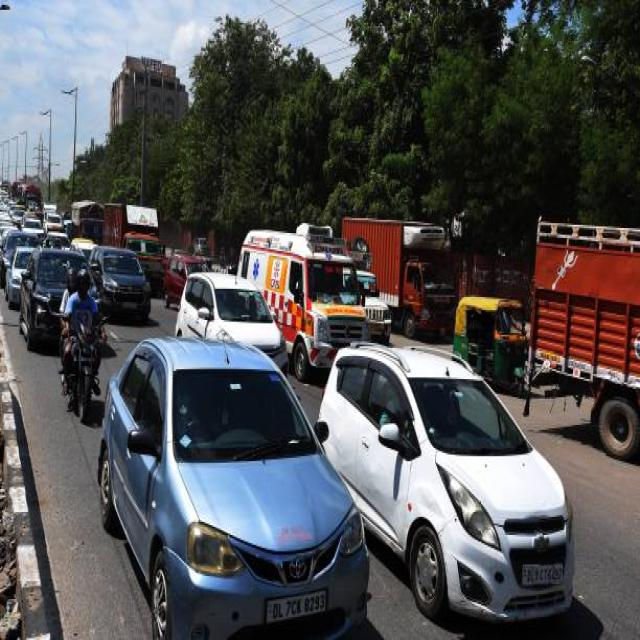ambulance: (242, 220, 376, 335), (290, 226, 355, 266)
